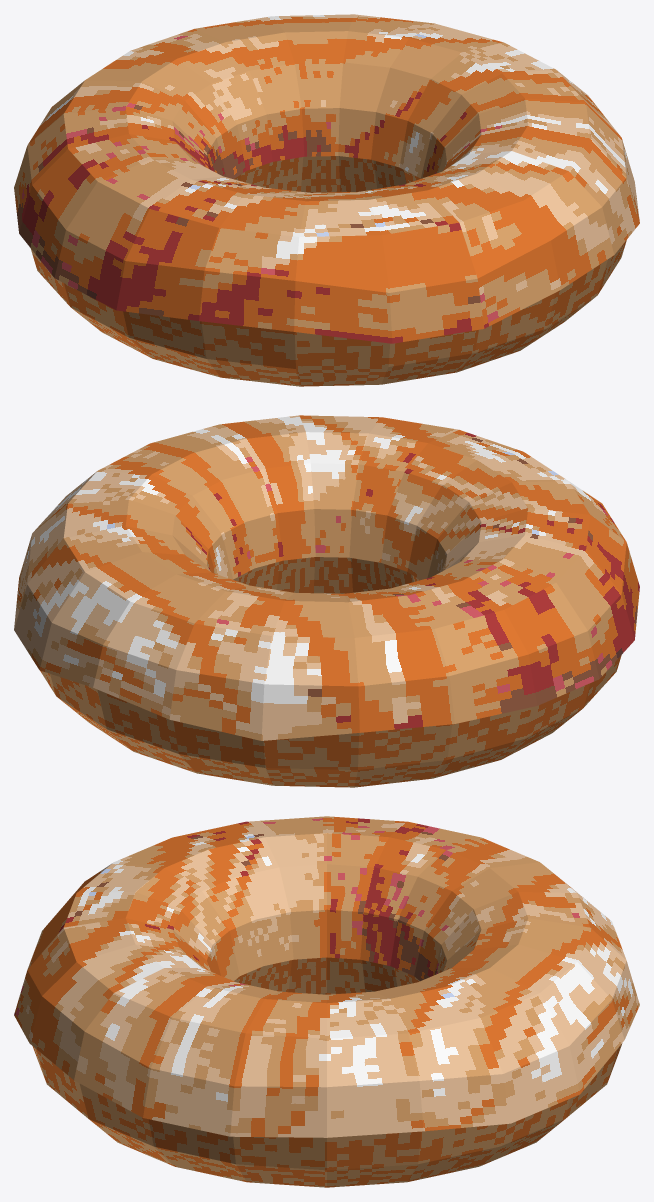
File: donut_4.glb
The picture shows the model from 3 angles, top to bottom: view 1: azimuth 30°, elevation 25°; view 2: azimuth 150°, elevation 25°; view 3: azimuth 270°, elevation 25°; orthographic projection.
Visible parts, largest first — view 1: doughnut_ps_baked; view 2: doughnut_ps_baked; view 3: doughnut_ps_baked.
Boxes of the visible parts, box(x1,y1,x2,y2) form: doughnut_ps_baked: box(14, 14, 639, 386); doughnut_ps_baked: box(14, 415, 639, 787); doughnut_ps_baked: box(14, 816, 639, 1187).
Size of the model in its own units: 1.28 by 0.3887 by 1.28.
1 material, 1 textured.
